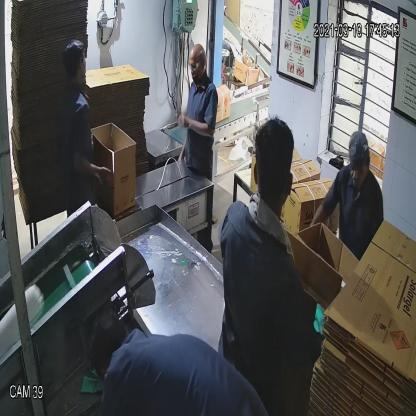no_glove: (175, 110, 216, 152), (72, 147, 109, 192)
